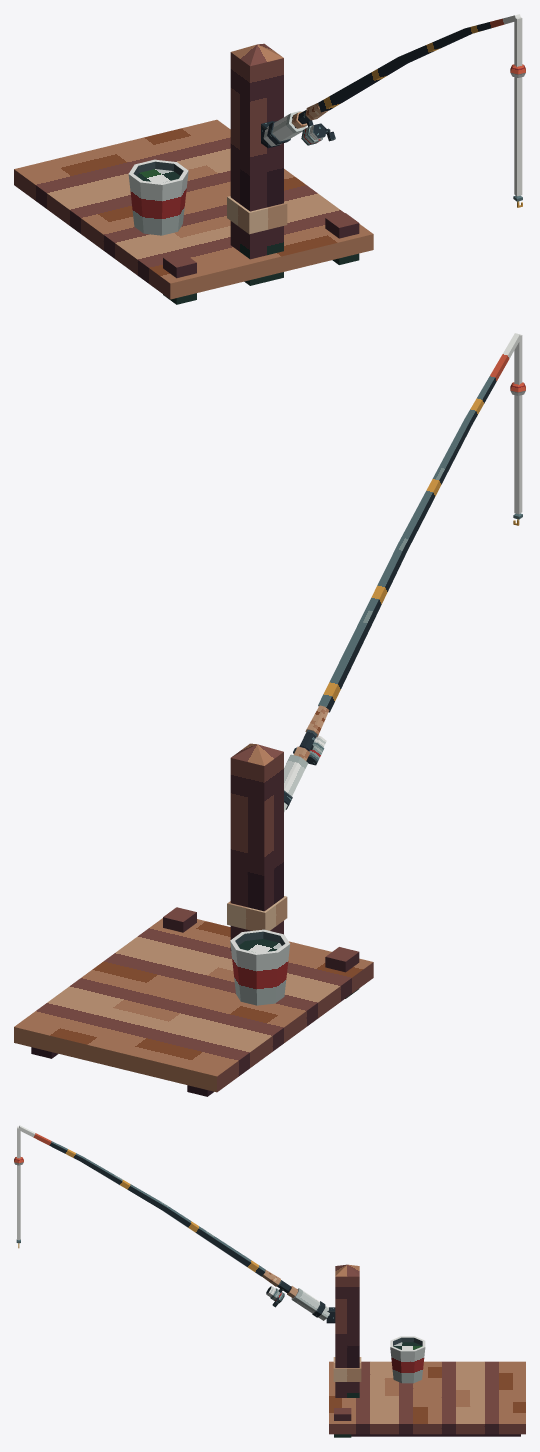
Rendered from rigs.glb.
3 renders of one model, top to bottom at view 1: azimuth 30°, elevation 25°; view 2: azimuth 150°, elevation 25°; view 3: azimuth 270°, elevation 25°, orthographic. The views are drawn at different scales.
Parts seen in each view (by area): view 1: rod_station_body, line; view 2: rod_station_body, line; view 3: rod_station_body, line.
Boxes of the visible parts, left/top/right/bottom form: rod_station_body: left=14, top=14, right=520, bottom=304; line: left=514, top=17, right=522, bottom=196; rod_station_body: left=14, top=333, right=521, bottom=1096; line: left=514, top=334, right=522, bottom=514; rod_station_body: left=18, top=1125, right=525, bottom=1437; line: left=17, top=1126, right=20, bottom=1239.
Bounding box in the file's own units: 1.2 × 2.54 × 4.16.
Materials: 1 (1 with a texture image).
